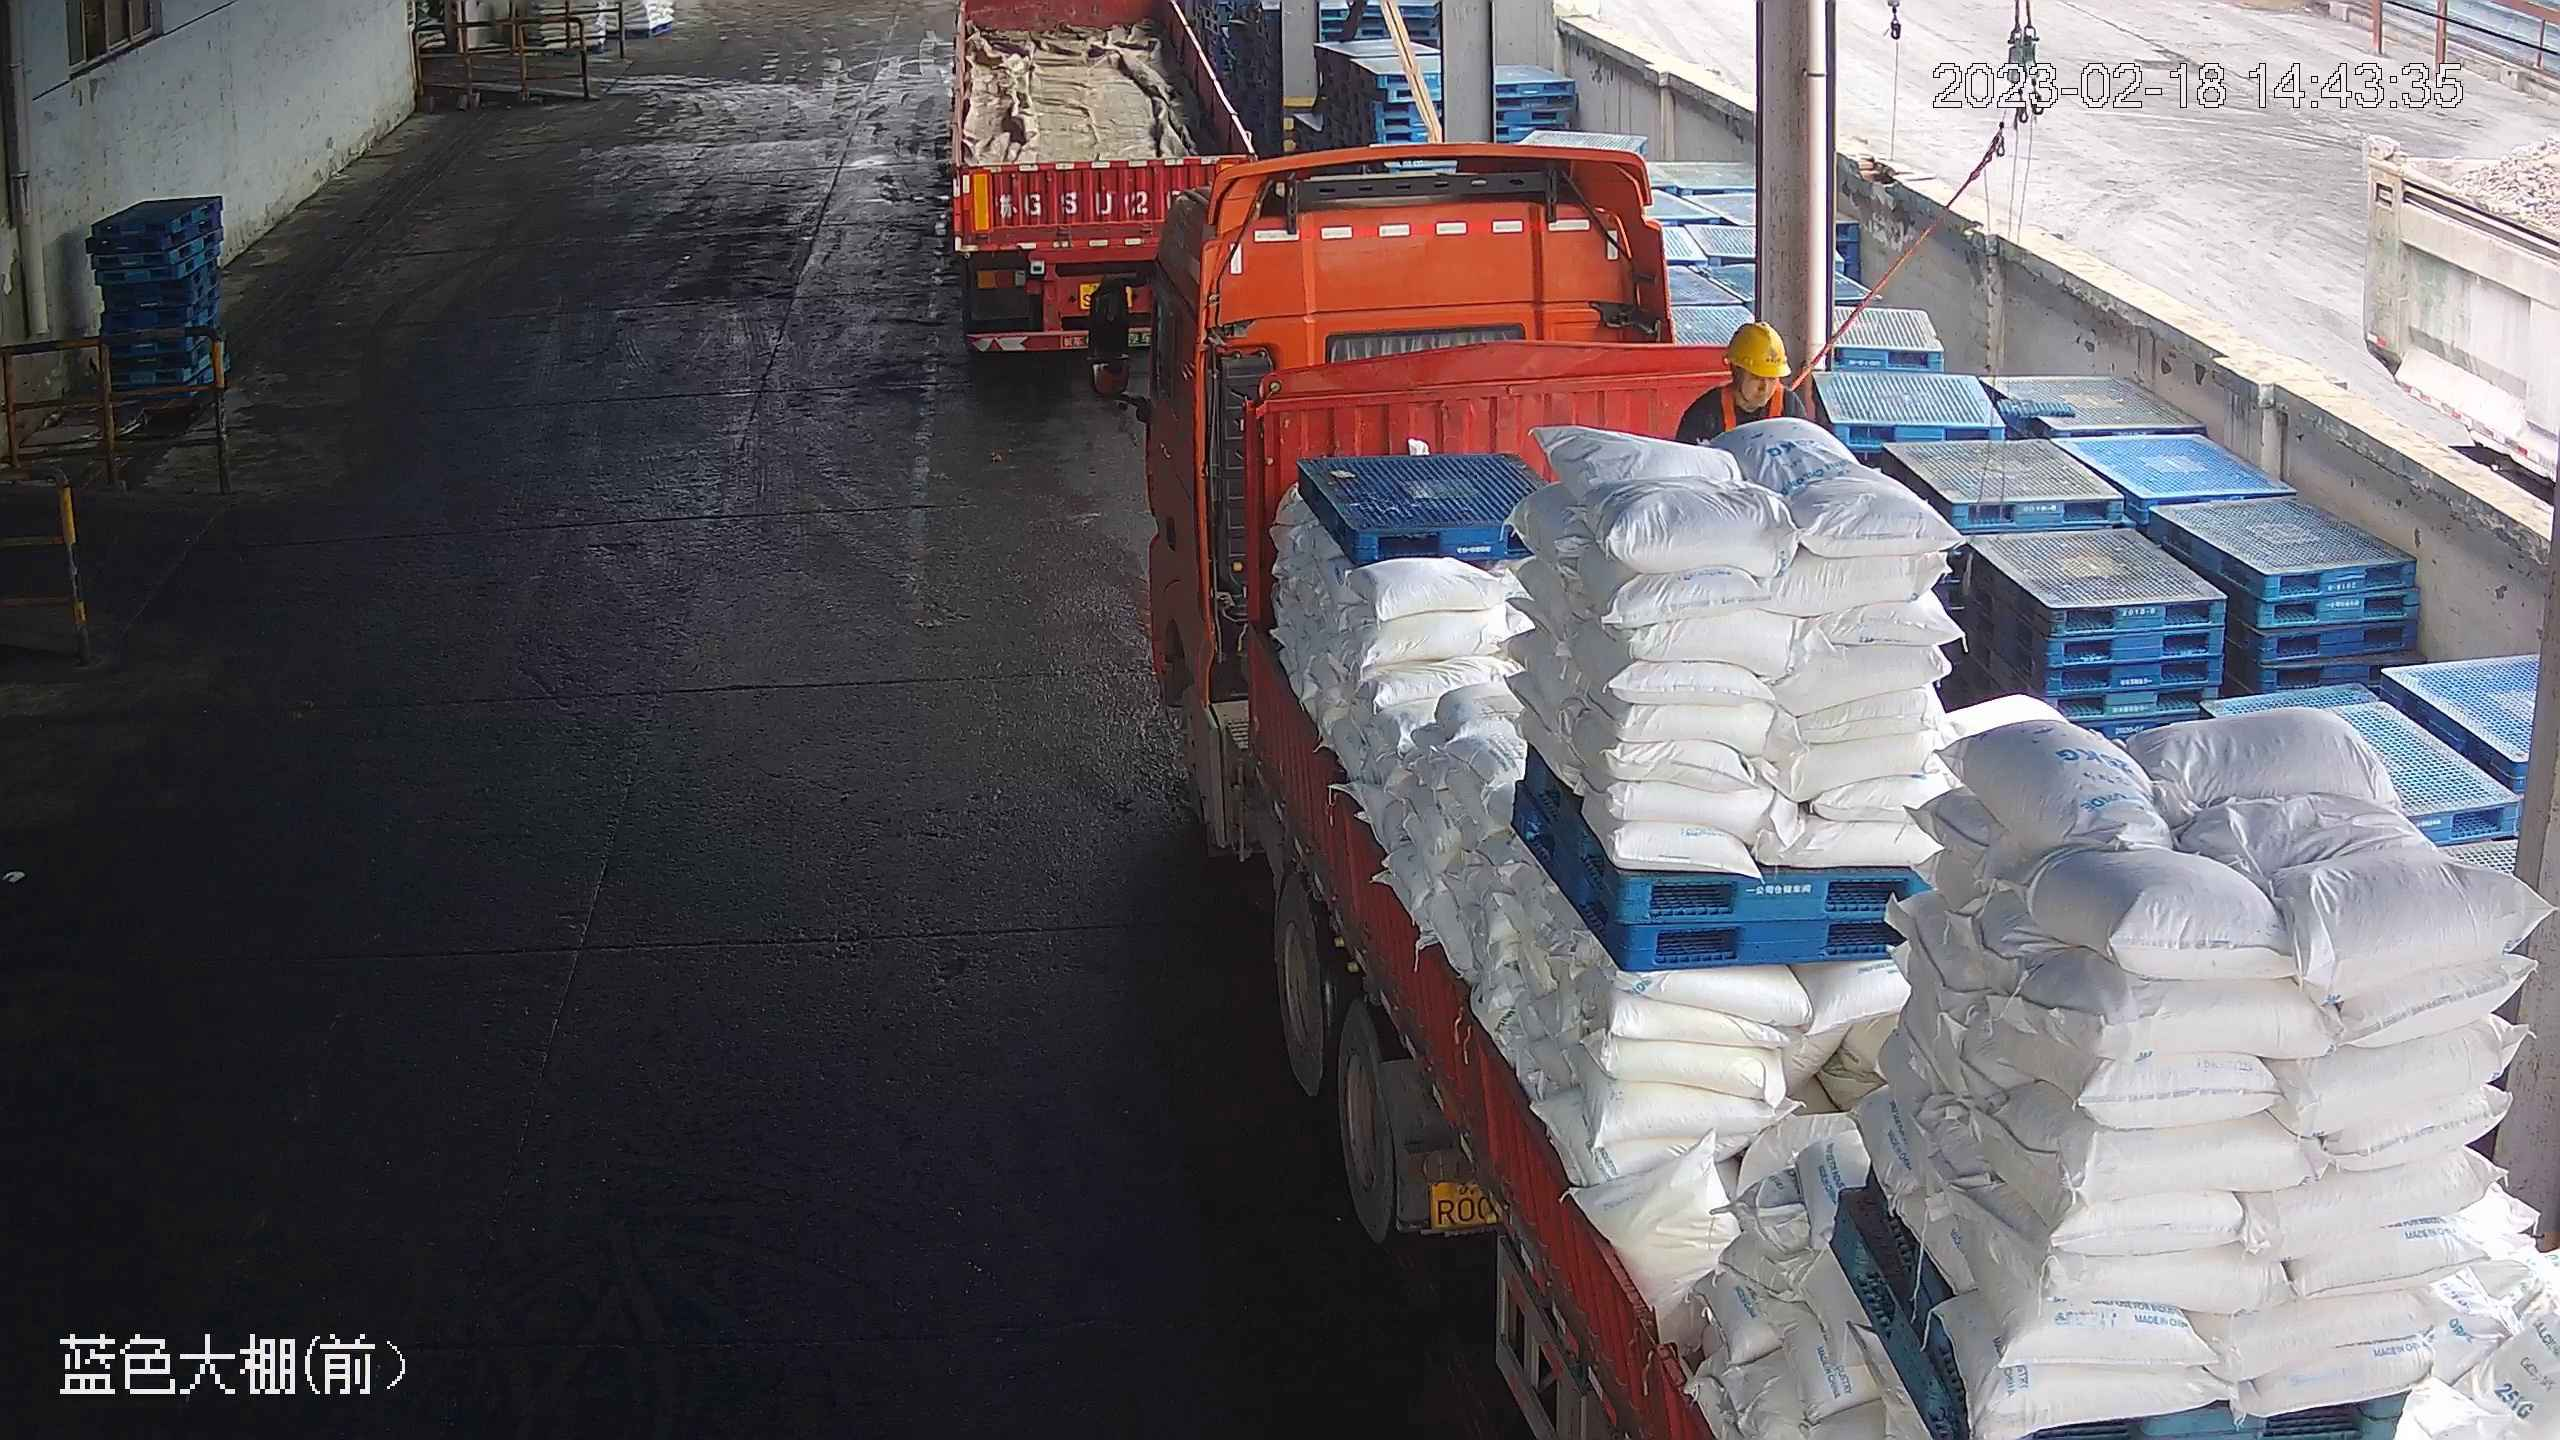belt: (1712, 384, 1785, 435)
head: (1683, 319, 1808, 430)
helmet: (1725, 317, 1792, 380)
truck: (1085, 138, 2553, 1440), (945, 1, 1260, 355)
